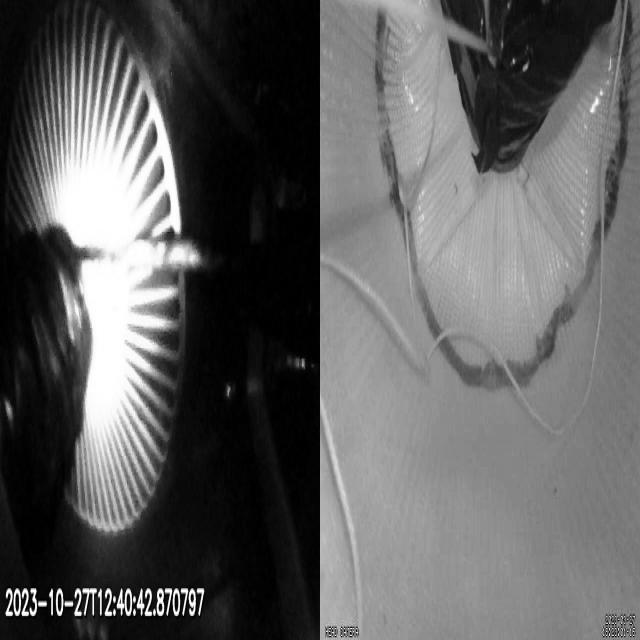red-circle: (374, 0, 632, 392)
